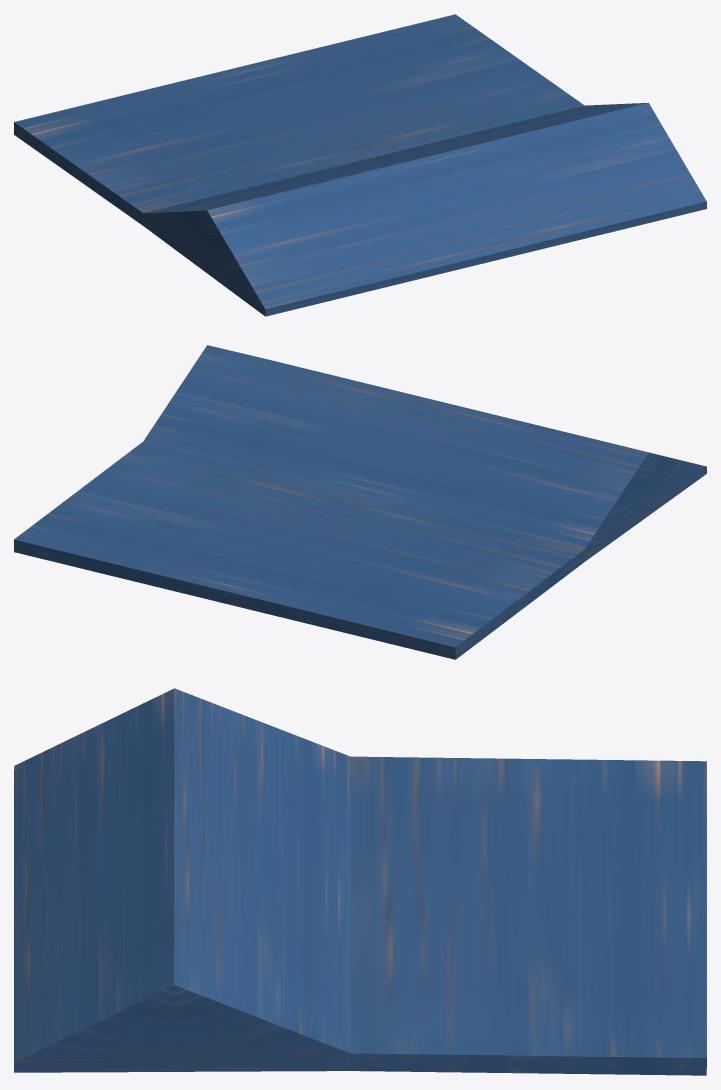
File: çatı.fbx
3 views of the same model, one above another, from view 1: azimuth 30°, elevation 25°; view 2: azimuth 150°, elevation 25°; view 3: azimuth 270°, elevation 25° (orthographic). The views are drawn at different scales.
Visible parts, largest first — view 1: Plane.085; view 2: Plane.085; view 3: Plane.085.
Part boxes in pixels (x1,y1,x2,y2): Plane.085: [14, 14, 706, 316]; Plane.085: [14, 345, 706, 659]; Plane.085: [14, 688, 706, 1075].
Size of the model in its own units: 1411 by 201 by 1392.
1 material, 1 textured.
